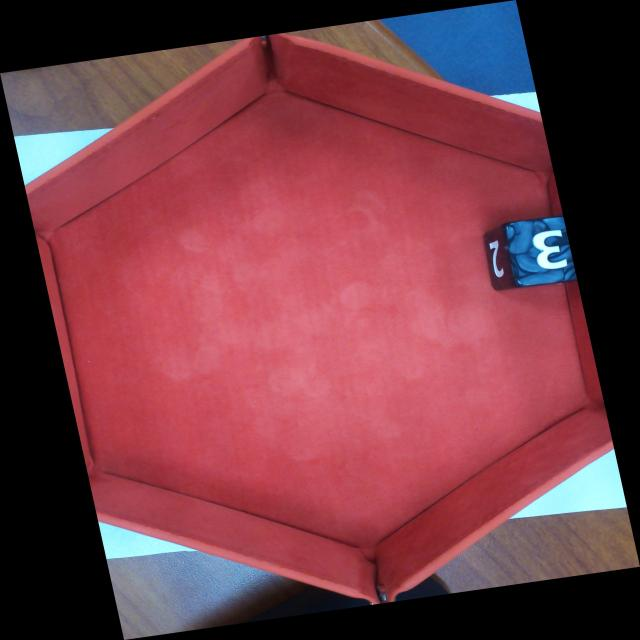dice: (503, 216, 582, 288)
